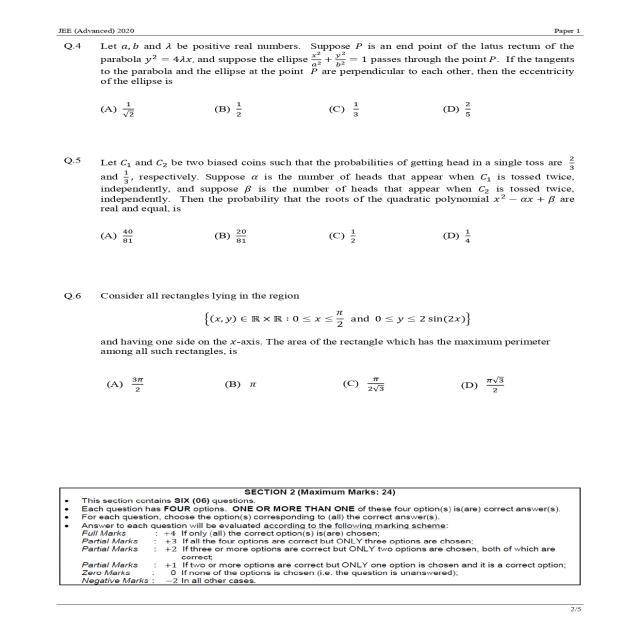Answer_Block: (24, 359, 608, 416), (28, 218, 612, 268), (24, 100, 610, 146)
Instruction: (24, 480, 608, 596)
Question_Answer_Block: (24, 276, 610, 418), (24, 40, 610, 152), (26, 154, 610, 266)
Question_Block: (25, 282, 609, 356), (28, 156, 610, 217), (25, 40, 608, 96)
Question_Paper_Area: (24, 37, 612, 596)
